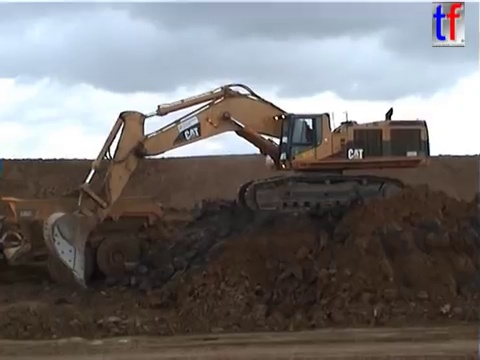excavator: (40, 80, 433, 292)
truck: (1, 193, 164, 287)
